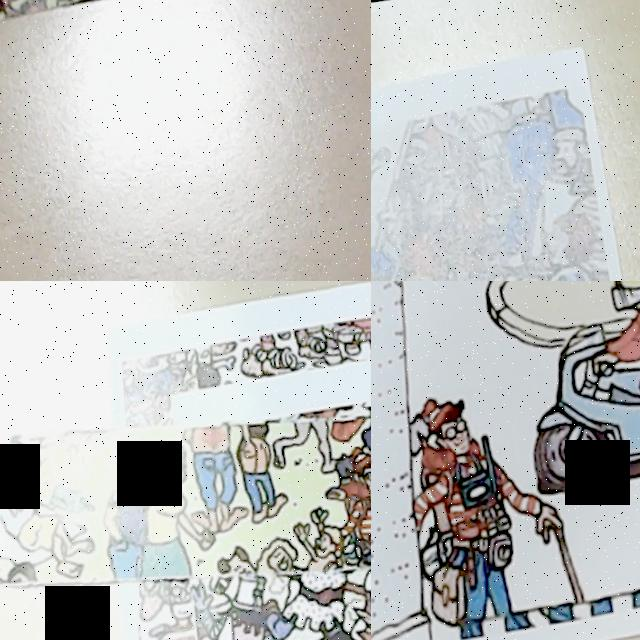waldo: (416, 377, 490, 466), (348, 433, 371, 495)
